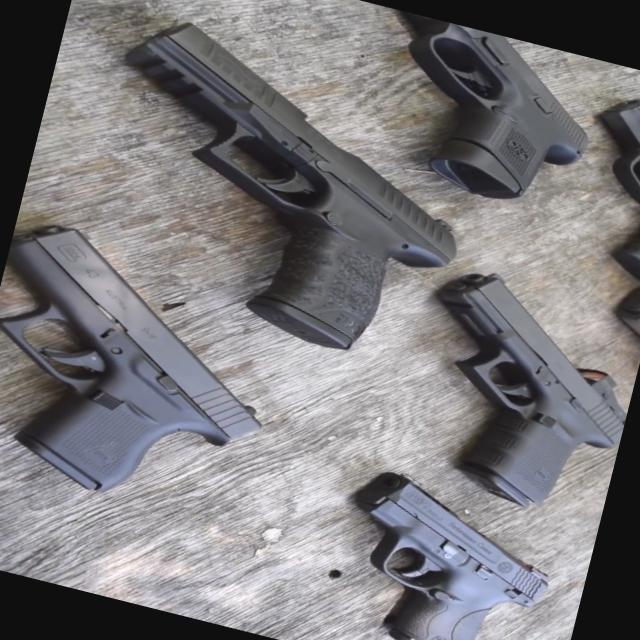handgun: (68, 0, 497, 366), (0, 208, 303, 542), (289, 0, 639, 246), (355, 245, 639, 535), (289, 457, 547, 639)
